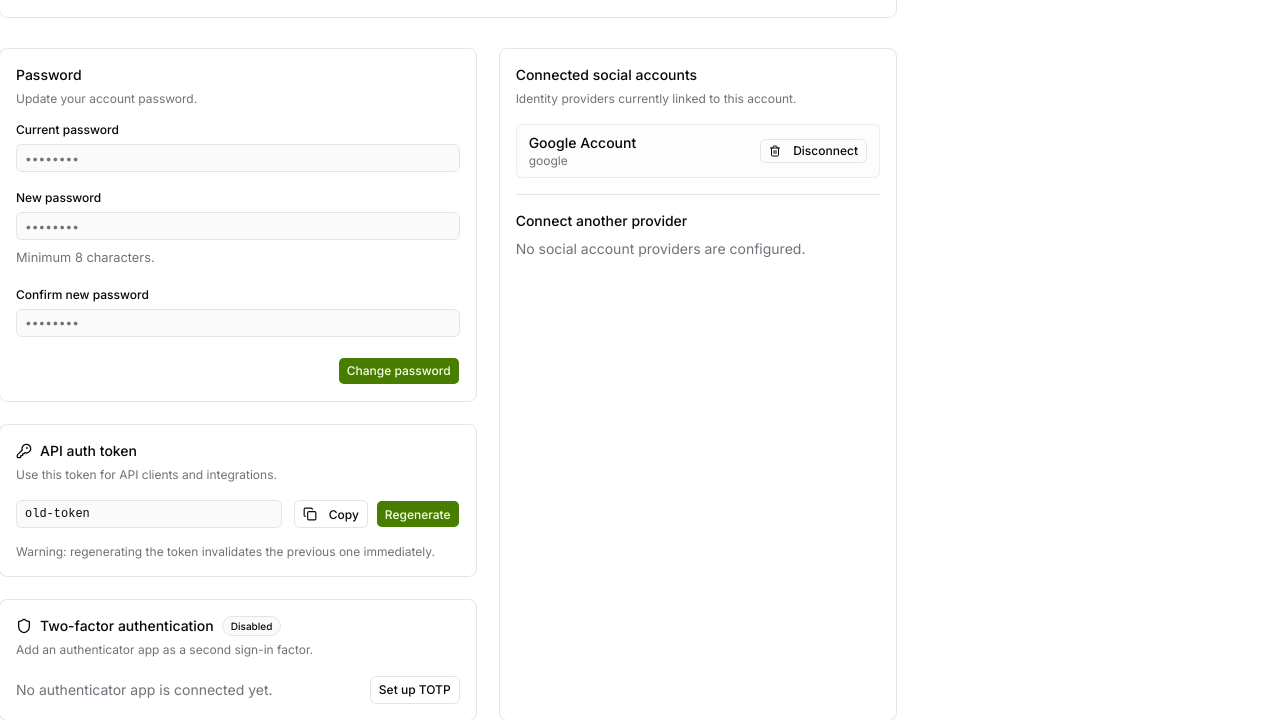
ProfileForm › regenerates the API token and updates the visible value
(page scrolled)
Click the button "Regenerate" at [418, 514], box left=376, top=500, right=460, bottom=528
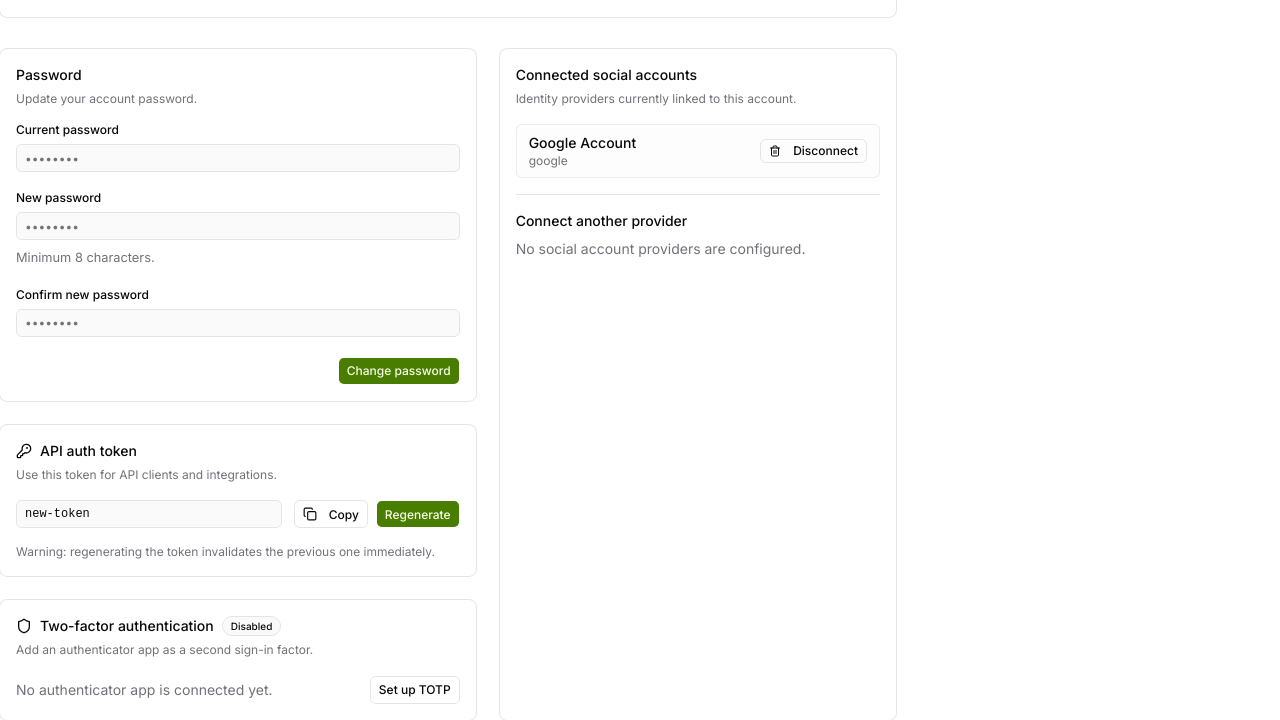
Expected: the field showing "new-token" is shown, left=16, top=500, right=282, bottom=528
